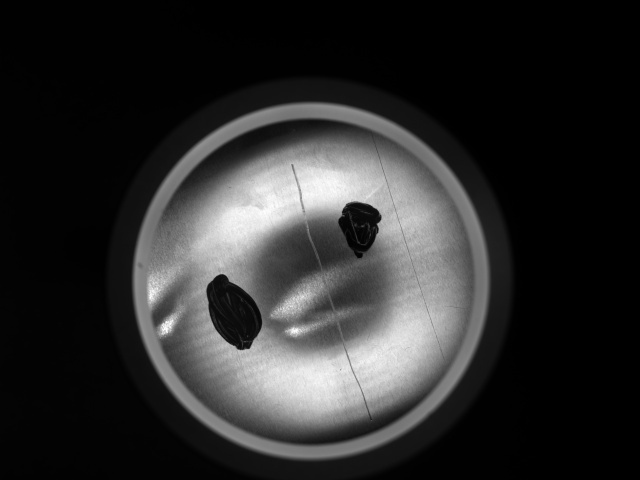ca_shang: (290, 162, 368, 417), (372, 133, 439, 361)
zang_wu: (203, 271, 266, 350), (335, 199, 384, 261)
